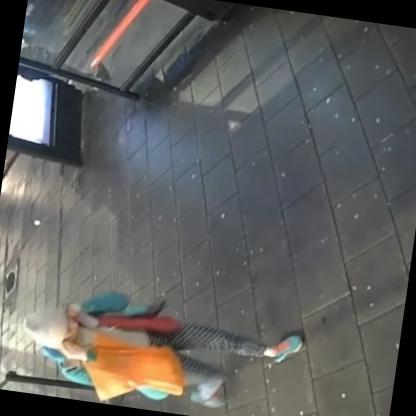Human Body: (12, 278, 317, 415)
